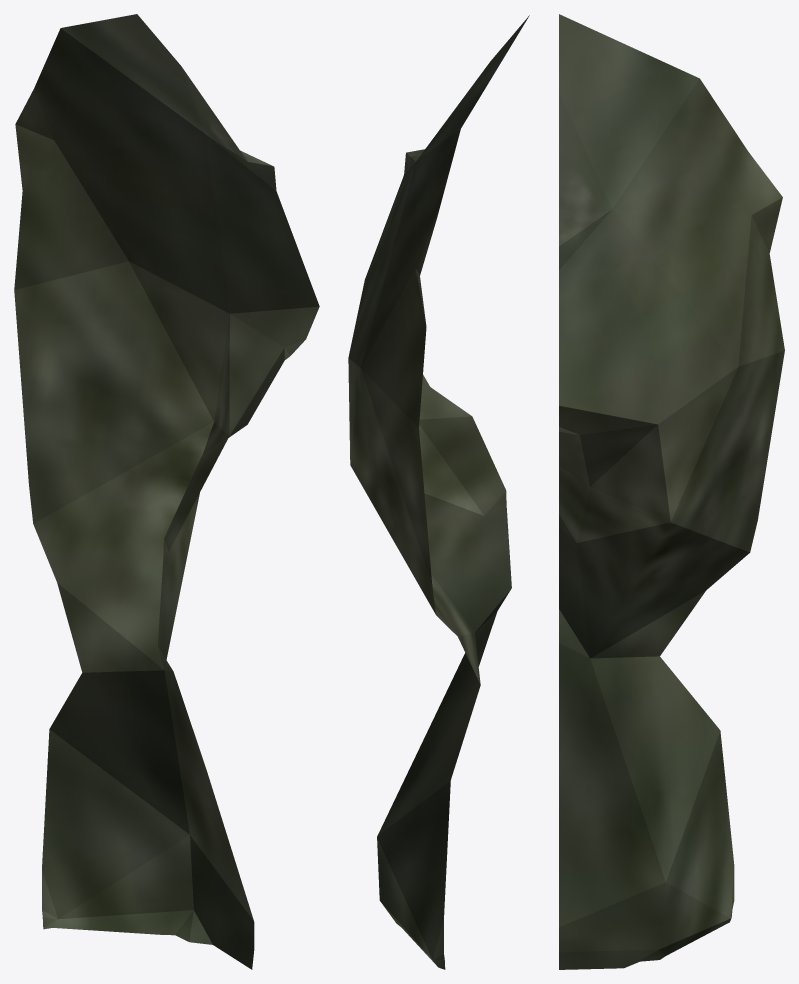
3 views of the same model, side by side, from view 1: azimuth 30°, elevation 25°; view 2: azimuth 150°, elevation 25°; view 3: azimuth 270°, elevation 25° (orthographic). The views are drawn at different scales.
Bounding box in the file's own units: 0.3478 × 1.79 × 0.4057.
Materials: 1 (1 with a texture image).
